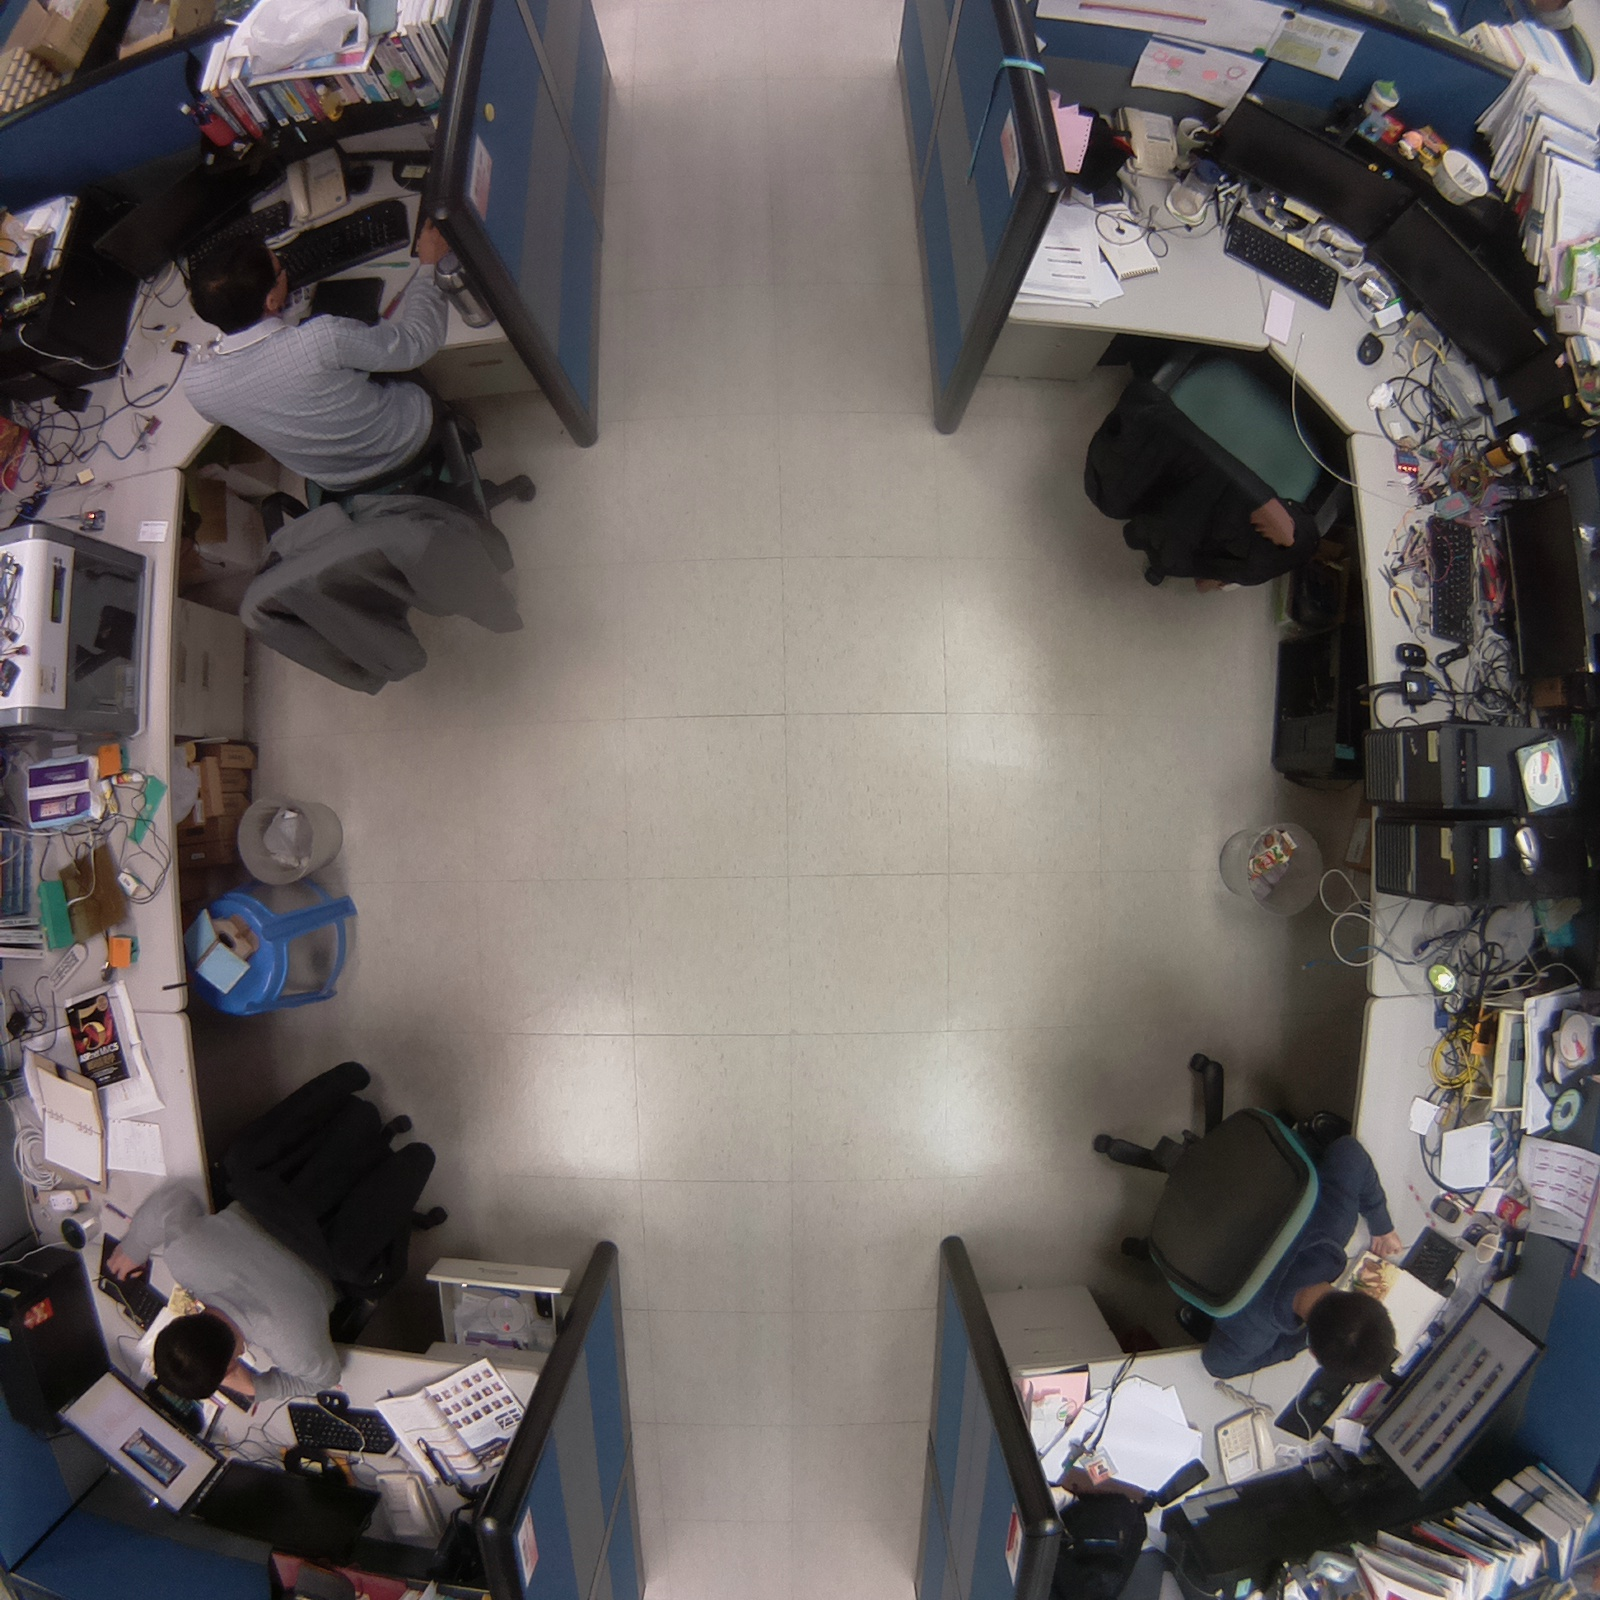chair: (1070, 327, 1350, 609)
head: (1300, 1276, 1406, 1393), (180, 225, 293, 336), (144, 1308, 244, 1406)
sitting: (165, 201, 586, 678), (101, 1029, 463, 1417), (1065, 1029, 1419, 1393)
